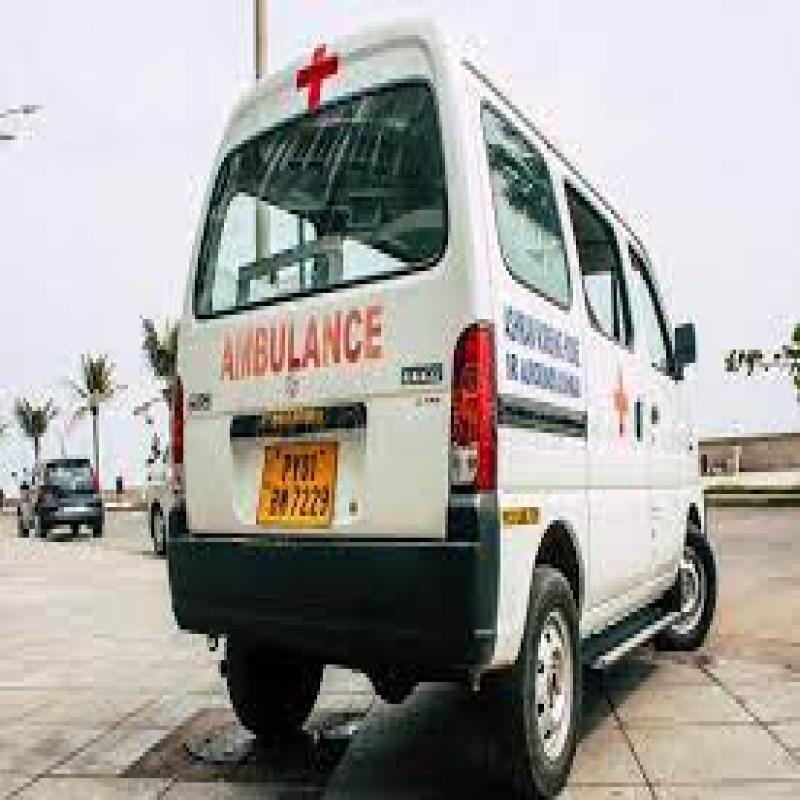ambulance: (147, 35, 720, 800)
